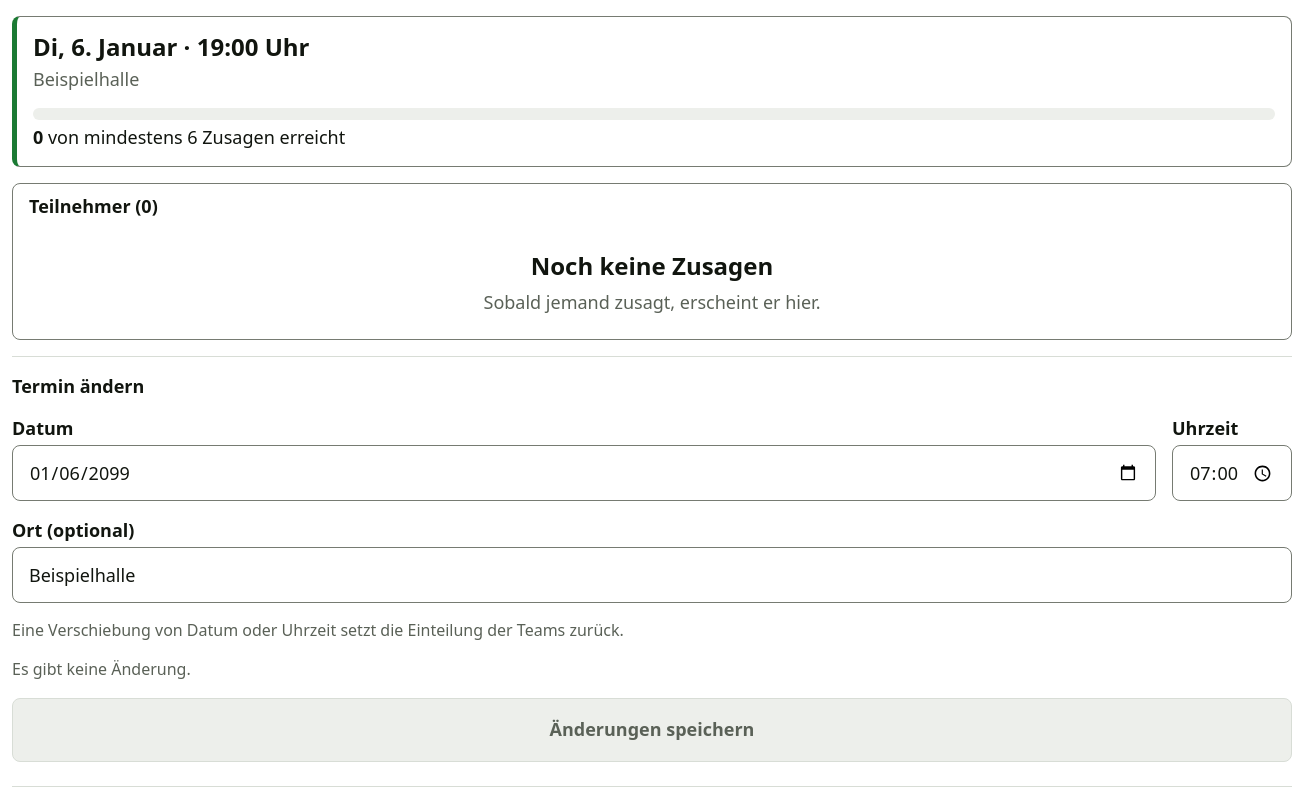
Test: AdminTerminDetail – Termin ändern › sendet nur das Geänderte samt version; danach „Gespeichert.“, das Formular zeigt den neuen Stand, der Fokus bleibt am Knopf
Replace the text in the field with test id "termin-ort" with "Neue Halle": x=652, y=575 [12,547,1292,603]
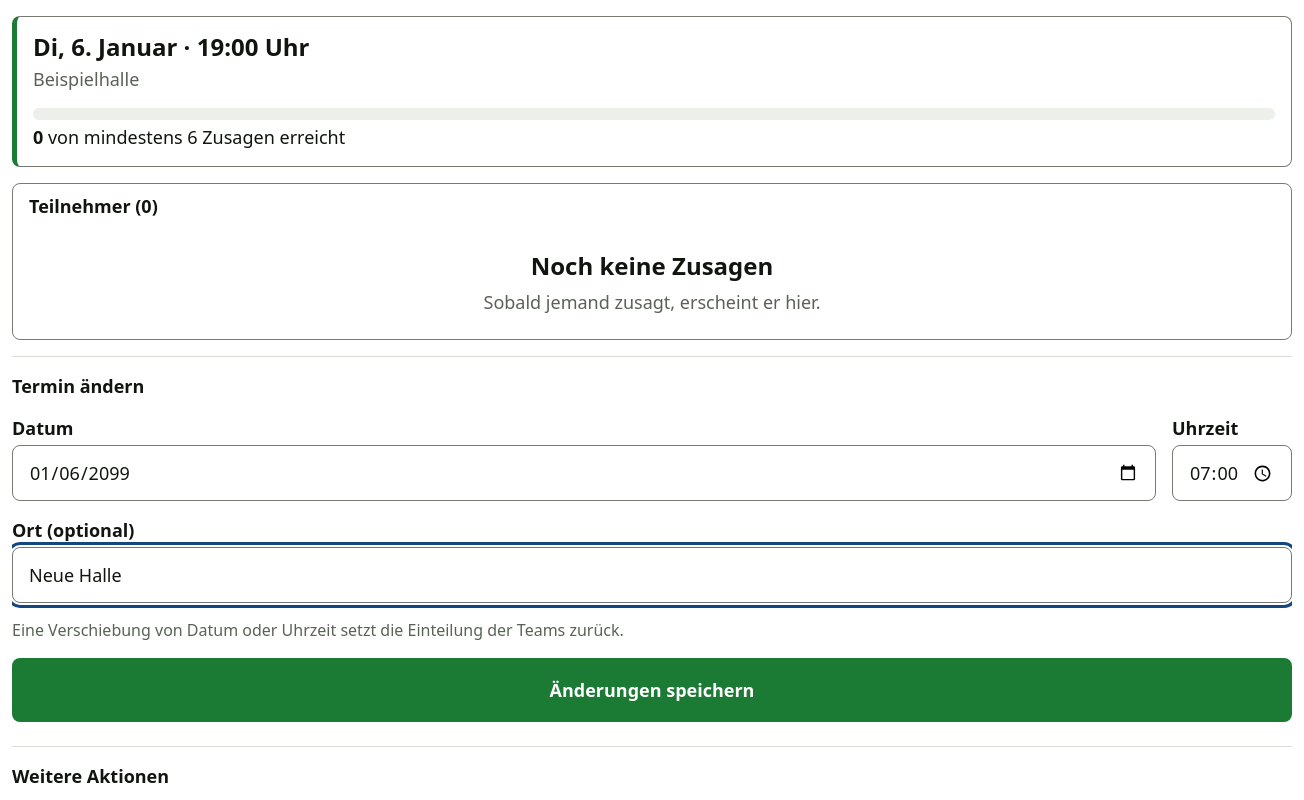
Click the button with test id "admin-termin-speichern": x=652, y=690 [12,658,1292,722]
(page scrolled)
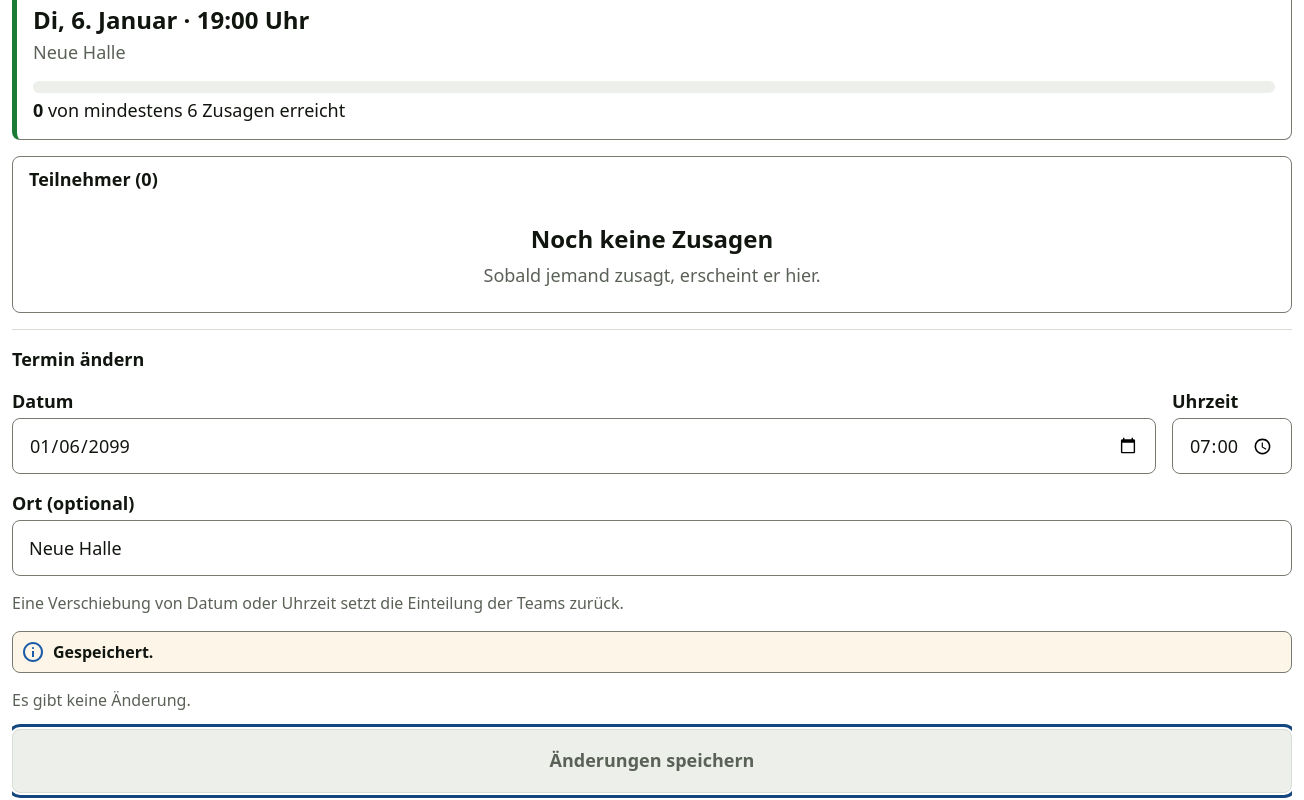
Expected: the message with test id "admin-termin-gespeichert" reads "Gespeichert.", [53,641,153,663]
Expected: the field with test id "termin-ort" holds "Neue Halle", [12,520,1292,576]
